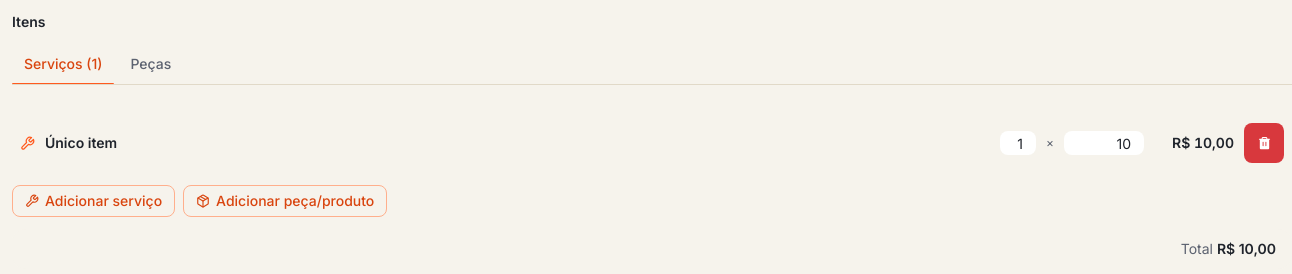
Test: ItemsEditor › removes a row when its trash button is clicked
Expected: the element with test id "item-row-0" is shown, x1=12 y1=113 x2=1291 y2=173
Click the button named "Remover item": (1264, 143) x1=1244 y1=123 x2=1284 y2=163
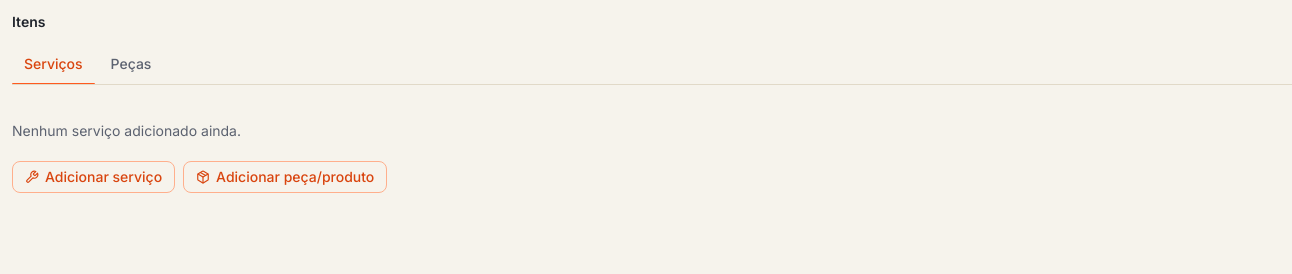
Now the element with test id "item-row-0" is gone
Now the text "Nenhum serviço adicionado ainda." is shown, box x1=12 y1=122 x2=241 y2=139
